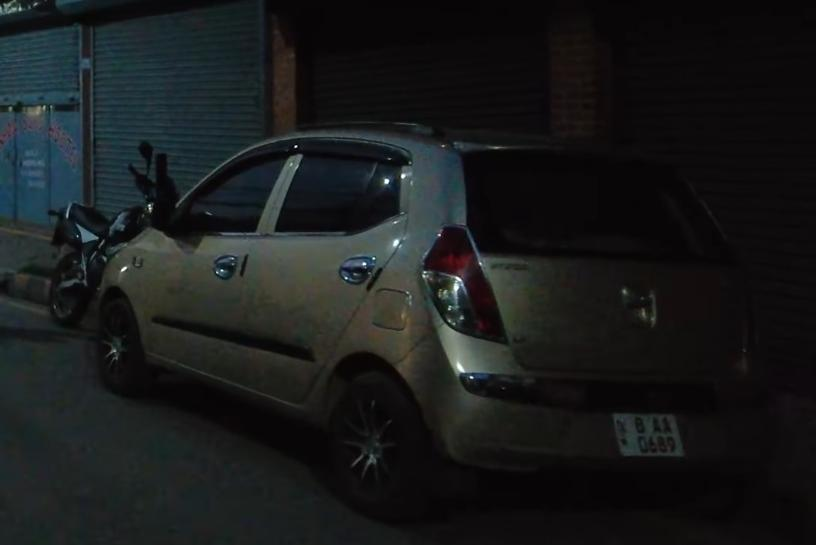car: (86, 124, 781, 517)
